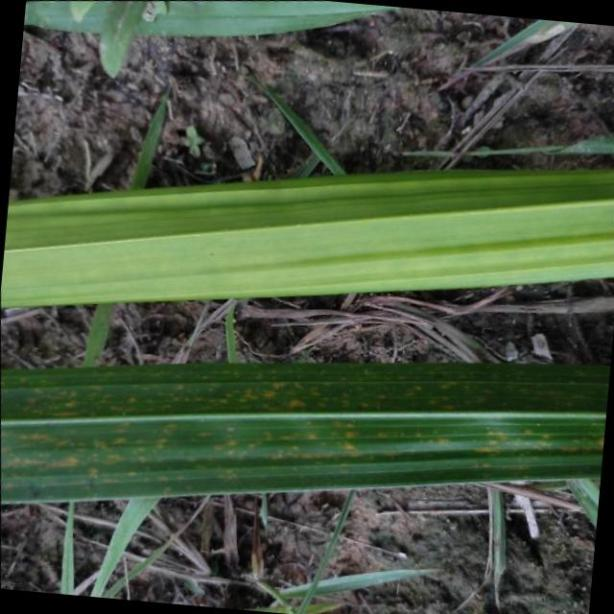nitrogen: (1, 347, 614, 499), (0, 168, 614, 312)
